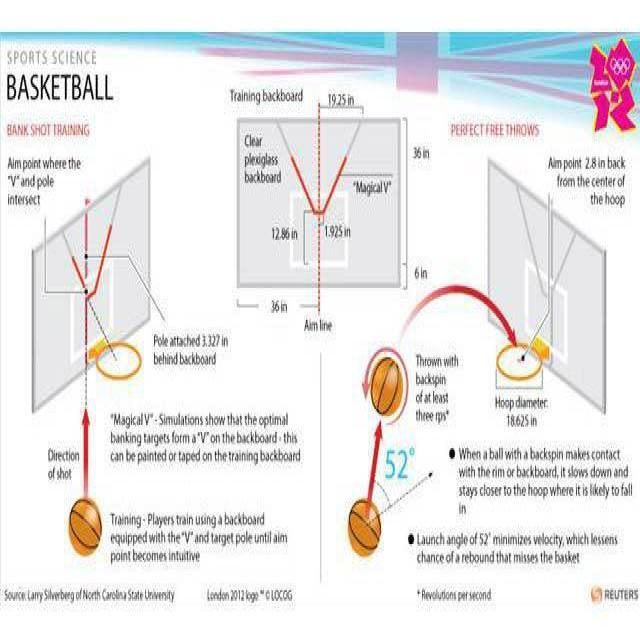Basketball: (368, 357, 404, 417), (349, 498, 381, 556), (68, 500, 101, 556)
hoop: (96, 341, 142, 381), (496, 343, 542, 380)
